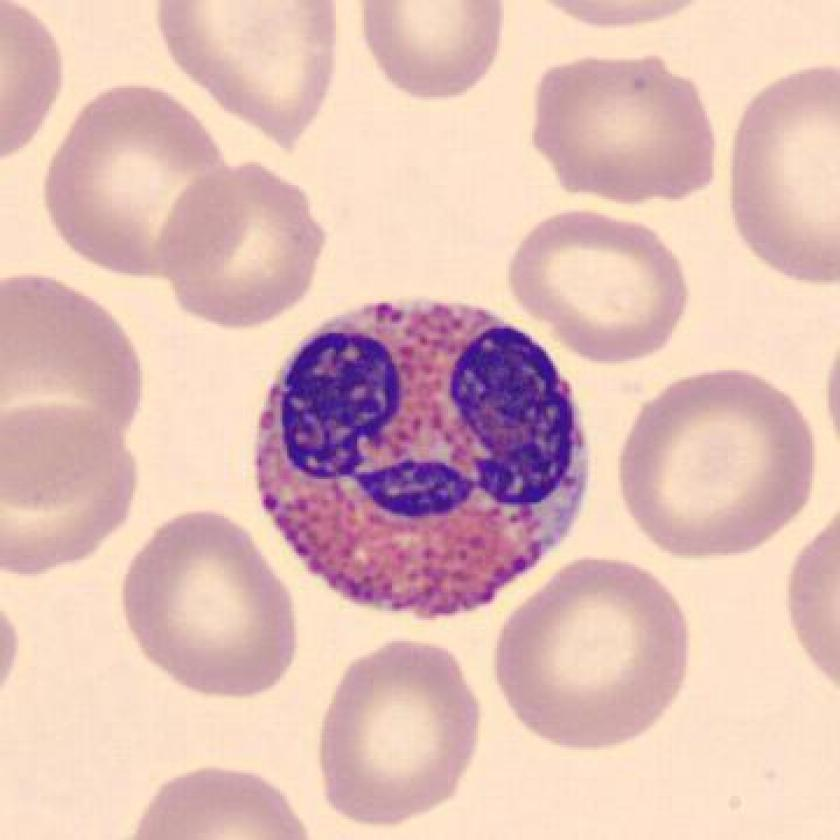eosinophil: (241, 286, 603, 633)
